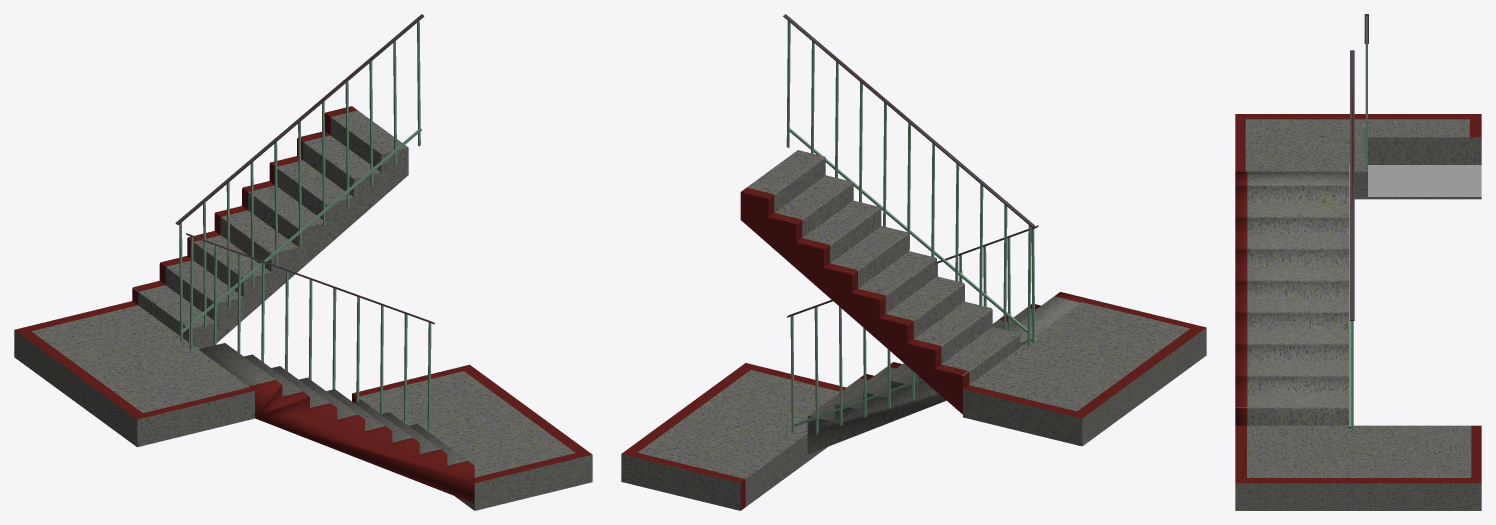
The model's file is Stairs.fbx.
3 views of the same model, side by side, from view 1: azimuth 30°, elevation 25°; view 2: azimuth 150°, elevation 25°; view 3: azimuth 270°, elevation 25° (orthographic).
Visible parts, largest first — view 1: Stairs.005, Stairs_platform_between.002, Stairs_platform_floor.002, Stairs.004, Stairs_template, Stairs_template.002, Stairs_template.001, Stairs_template.003; view 2: Stairs.005, Stairs_platform_between.002, Stairs_platform_floor.002, Stairs.004, Stairs_template, Stairs_template.002, Stairs_template.001; view 3: Stairs.004, Stairs_platform_floor.002, Stairs_platform_between.002, Stairs.005, Stairs_template.003, Stairs_template.002, Stairs_template.
Boxes of the visible parts, bbox=[...] form: Stairs.005: bbox=[132, 106, 408, 348]; Stairs_platform_between.002: bbox=[14, 301, 254, 447]; Stairs_platform_floor.002: bbox=[352, 364, 592, 510]; Stairs.004: bbox=[198, 343, 474, 503]; Stairs_template: bbox=[179, 21, 421, 342]; Stairs_template.002: bbox=[189, 237, 431, 433]; Stairs_template.001: bbox=[175, 14, 424, 224]; Stairs_template.003: bbox=[186, 233, 434, 324]; Stairs.005: bbox=[740, 150, 1020, 414]; Stairs_platform_between.002: bbox=[963, 298, 1206, 446]; Stairs_platform_floor.002: bbox=[621, 363, 846, 510]; Stairs.004: bbox=[807, 292, 1086, 454]; Stairs_template: bbox=[786, 21, 1031, 346]; Stairs_template.002: bbox=[790, 229, 1036, 434]; Stairs_template.001: bbox=[783, 14, 1034, 227]; Stairs.004: bbox=[1235, 171, 1348, 425]; Stairs_platform_floor.002: bbox=[1235, 425, 1481, 510]; Stairs_platform_between.002: bbox=[1235, 114, 1481, 199]; Stairs.005: bbox=[1368, 124, 1481, 196]; Stairs_template.003: bbox=[1350, 50, 1354, 320]; Stairs_template.002: bbox=[1349, 164, 1353, 431]; Stairs_template: bbox=[1363, 15, 1367, 167].
Bounding box in the file's own units: 464 × 433 × 217.
5 materials, 4 textured.
